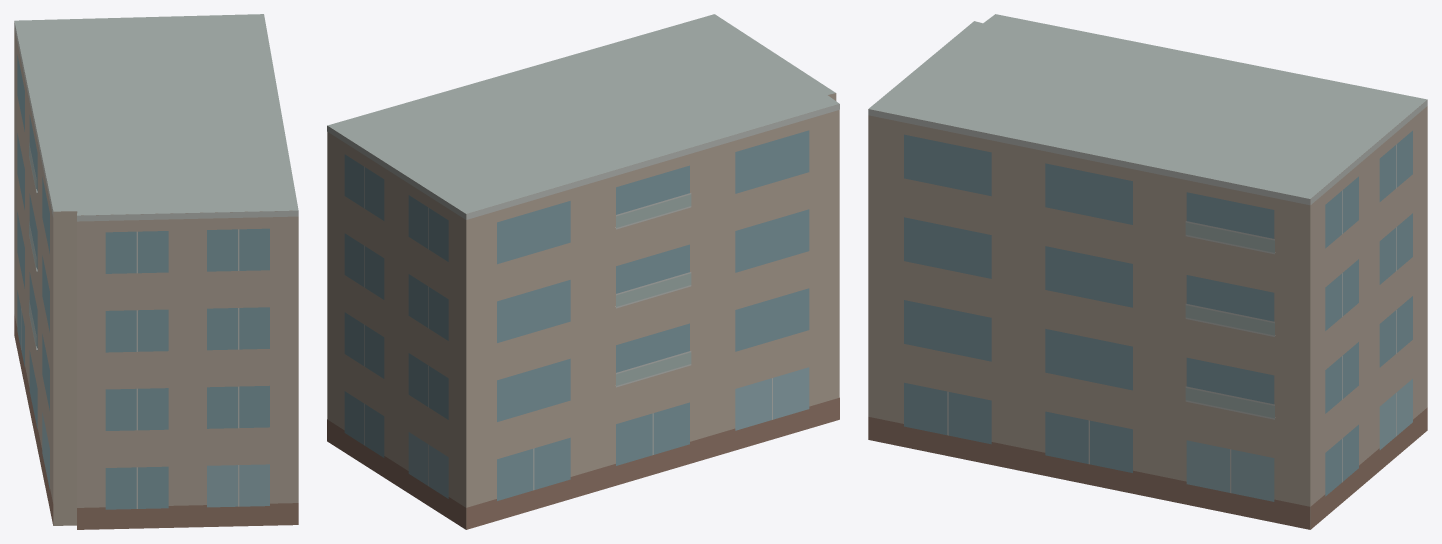
File: survey-upis-32585924.glb
The picture shows the model from 3 angles, left to right: view 1: azimuth 30°, elevation 25°; view 2: azimuth 150°, elevation 25°; view 3: azimuth 270°, elevation 25°; orthographic projection. The views are drawn at different scales.
Parts seen in each view (by area): view 1: survey-upis-32585924.tmp; view 2: survey-upis-32585924.tmp; view 3: survey-upis-32585924.tmp.
Boxes of the visible parts, <box> form: survey-upis-32585924.tmp: <box>14,14,298,529</box>; survey-upis-32585924.tmp: <box>327,14,839,529</box>; survey-upis-32585924.tmp: <box>868,14,1427,529</box>.
Size of the model in its own units: 15.37 by 12.8 by 19.63.
